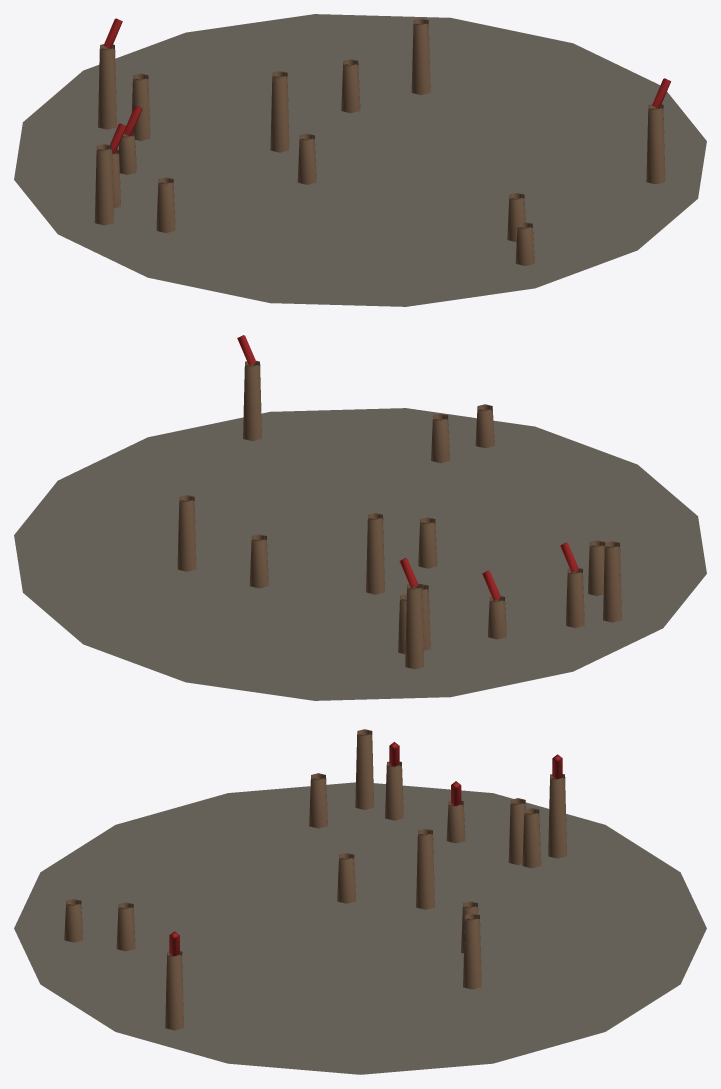
File: lake-chironomid-shelf-0.glb
3 views of the same model, one above another, from view 1: azimuth 30°, elevation 25°; view 2: azimuth 150°, elevation 25°; view 3: azimuth 270°, elevation 25° (orthographic).
Visible parts, largest first — view 1: lake-chironomid-shelf-0; view 2: lake-chironomid-shelf-0; view 3: lake-chironomid-shelf-0.
Boxes of the visible parts, x1=… form: lake-chironomid-shelf-0: x1=14, y1=14, x2=706, y2=306; lake-chironomid-shelf-0: x1=14, y1=335, x2=706, y2=700; lake-chironomid-shelf-0: x1=14, y1=729, x2=706, y2=1074.
Bounding box in the file's own units: 0.16 × 0.0263 × 0.16.
